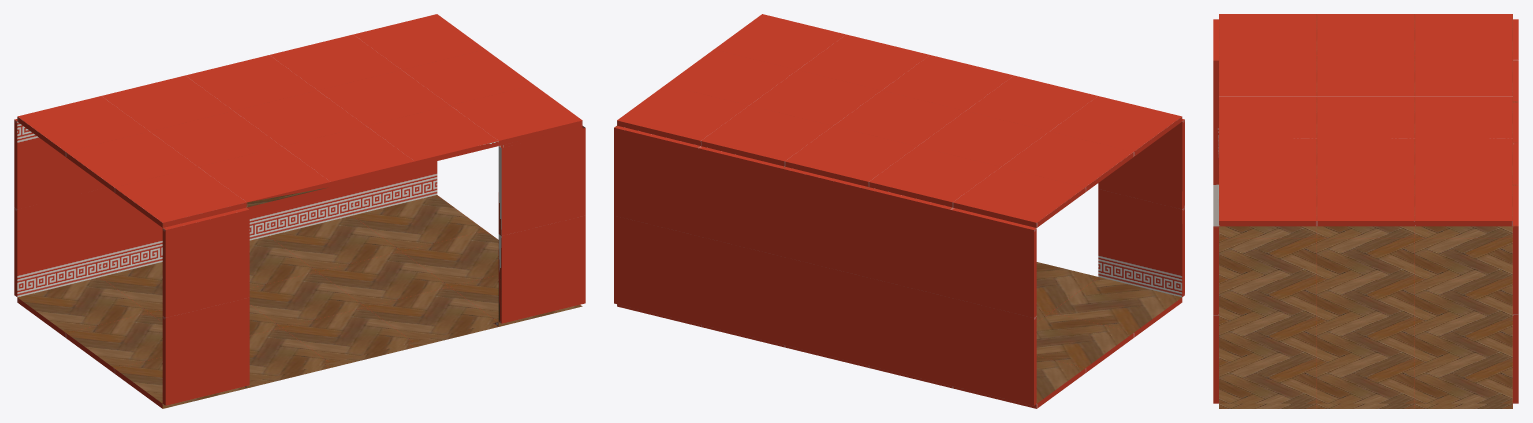
Rendered from ConexaoAberta.fbx.
3 views of the same model, side by side, from view 1: azimuth 30°, elevation 25°; view 2: azimuth 150°, elevation 25°; view 3: azimuth 270°, elevation 25° (orthographic).
Visible parts, largest first — view 1: ConexaoAberta; view 2: ConexaoAberta; view 3: ConexaoAberta.
Part boxes in pixels (x1,y1,x2,y2): ConexaoAberta: (14, 14, 585, 408); ConexaoAberta: (614, 14, 1184, 408); ConexaoAberta: (1213, 14, 1518, 408).
Size of the model in its own units: 1000 by 423 by 623.
